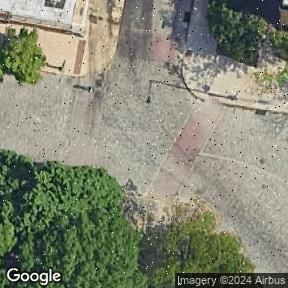vegetation: (0, 149, 253, 288), (0, 28, 46, 85)
